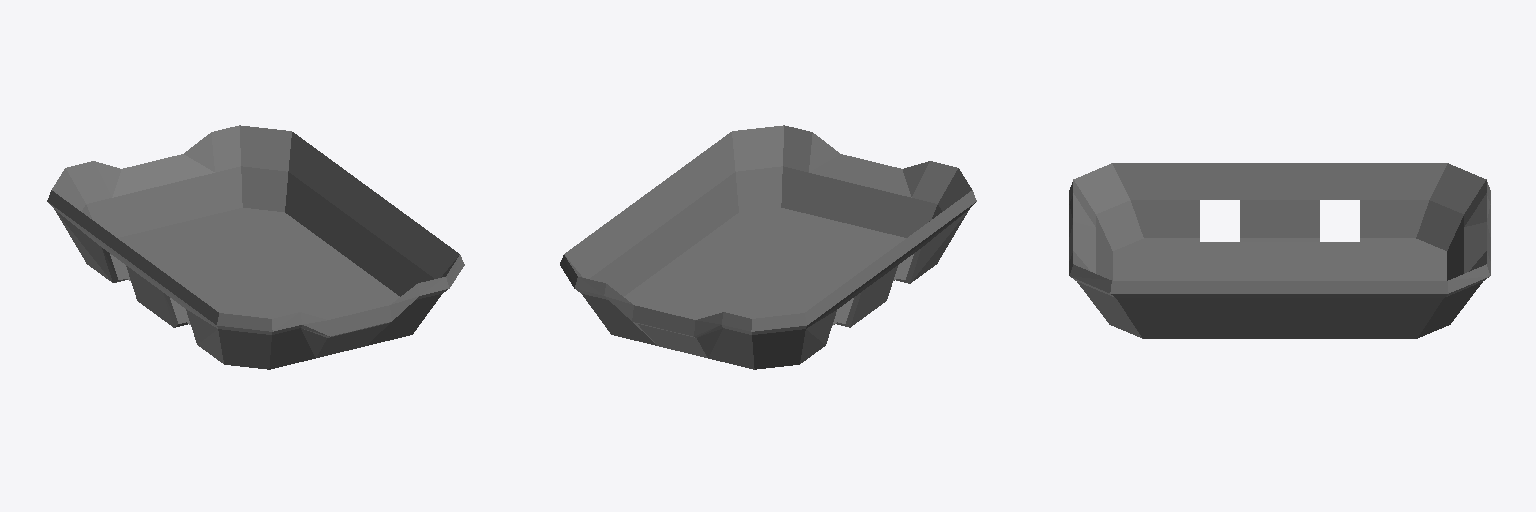
The model's file is Contenedor_productos.obj.
3 renders of one model, left to right at view 1: azimuth 30°, elevation 25°; view 2: azimuth 150°, elevation 25°; view 3: azimuth 270°, elevation 25°, orthographic.
Parts seen in each view (by area): view 1: hypercasual_prop009; view 2: hypercasual_prop009; view 3: hypercasual_prop009.
Boxes of the visible parts, box(x1,y1,x2,y2) form: hypercasual_prop009: box(47, 125, 464, 369); hypercasual_prop009: box(560, 125, 976, 369); hypercasual_prop009: box(1069, 163, 1490, 338).
Bounding box in the file's own units: 1.14 × 0.2983 × 1.68.